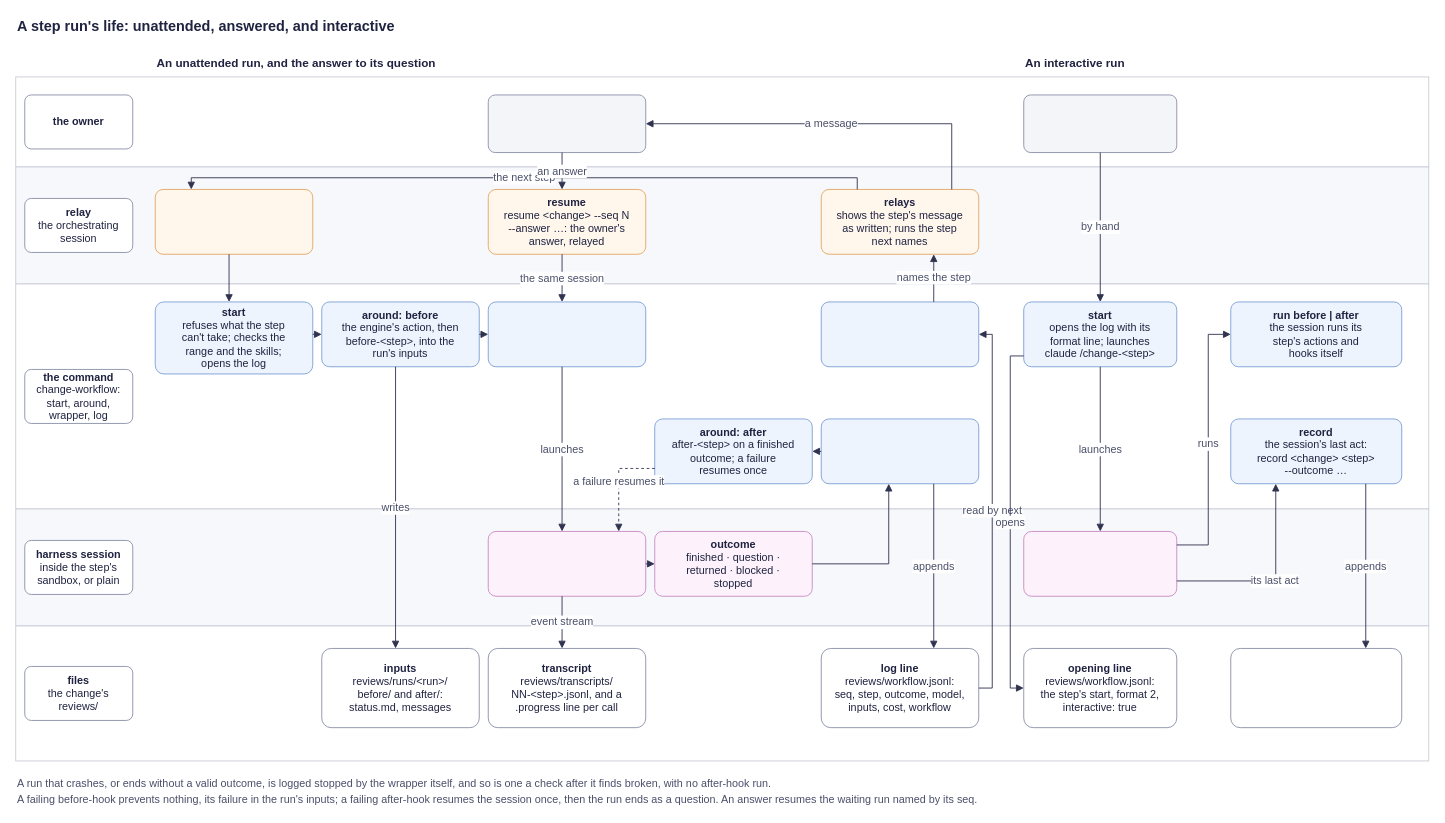
The diagram is 1445 pixels wide and 823 high, and some of its shapes have lost their labels. The centre of each missing label's shape, as x and y in pixels:
harness session bwrap; claude -p or codex, /change-<step>; reads its inputs: [566,563]
next the next step, computed from the files and the log: [899,334]
outcome line the outcome, session id, HEAD, interactive: true, the hooks it ran: [1316,688]
plain session the owner's own permissions; no sandbox: [1100,563]
start --unattended start <step> <change> --unattended, or make with UNATTENDED=1: [233,221]
the owner reads each message as written; answers a question: [566,123]
the owner start <step> <change>, without --unattended: [1100,123]
wrapper scope, sandbox, a model; launches, or resumes the waiting session: [566,334]
wrapper: after the seven checks; the outcome checked; denials, refusals, cost: [899,451]
